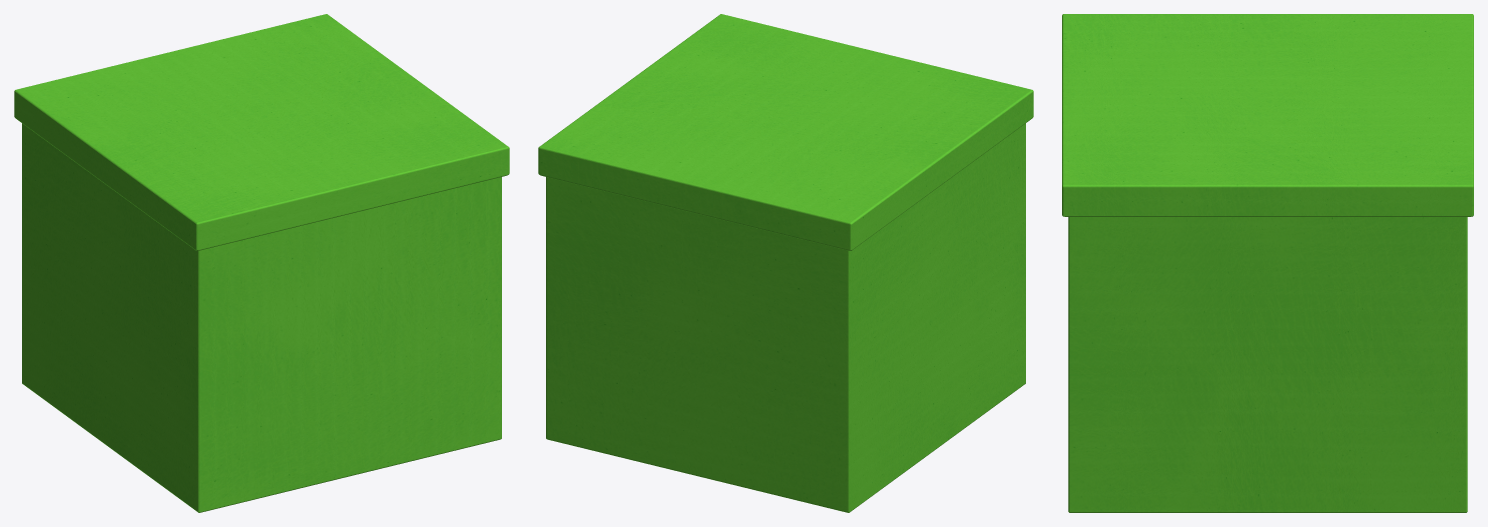
Rendered from green_box.obj.
3 views of the same model, side by side, from view 1: azimuth 30°, elevation 25°; view 2: azimuth 150°, elevation 25°; view 3: azimuth 270°, elevation 25° (orthographic). The views are drawn at different scales.
Visible parts, largest first — view 1: o_Storagebox_Box_blue_0; view 2: o_Storagebox_Box_blue_0; view 3: o_Storagebox_Box_blue_0.
Part boxes in pixels (left/top/right/bottom): o_Storagebox_Box_blue_0: left=14, top=14, right=509, bottom=512; o_Storagebox_Box_blue_0: left=538, top=14, right=1033, bottom=512; o_Storagebox_Box_blue_0: left=1062, top=14, right=1473, bottom=512.
Bounding box in the file's own units: 0.3087 × 0.2761 × 0.3117.
Materials: 1 (1 with a texture image).
